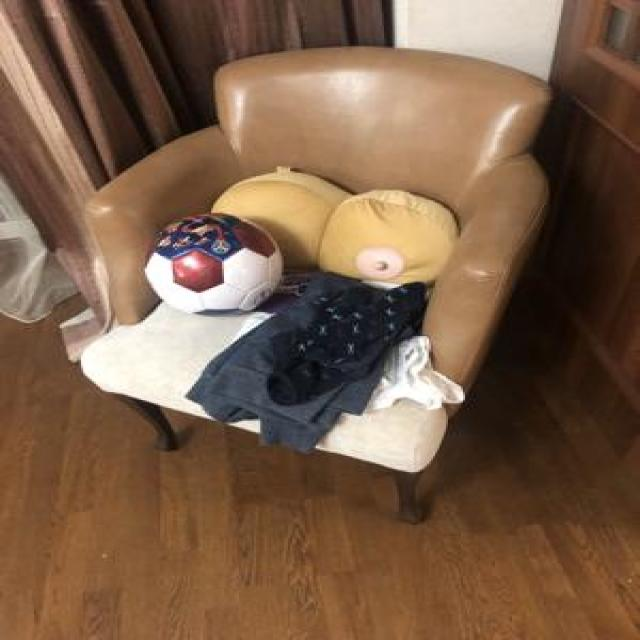Soccer Ball: (143, 211, 279, 315)
